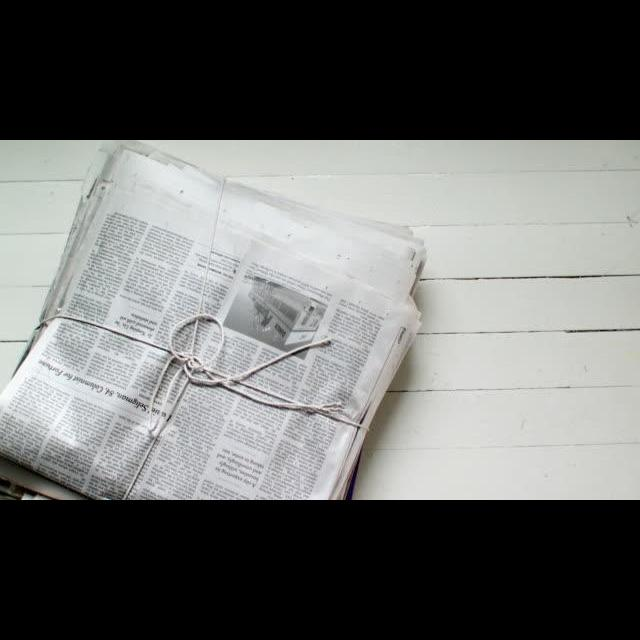papel: (0, 140, 428, 500)
